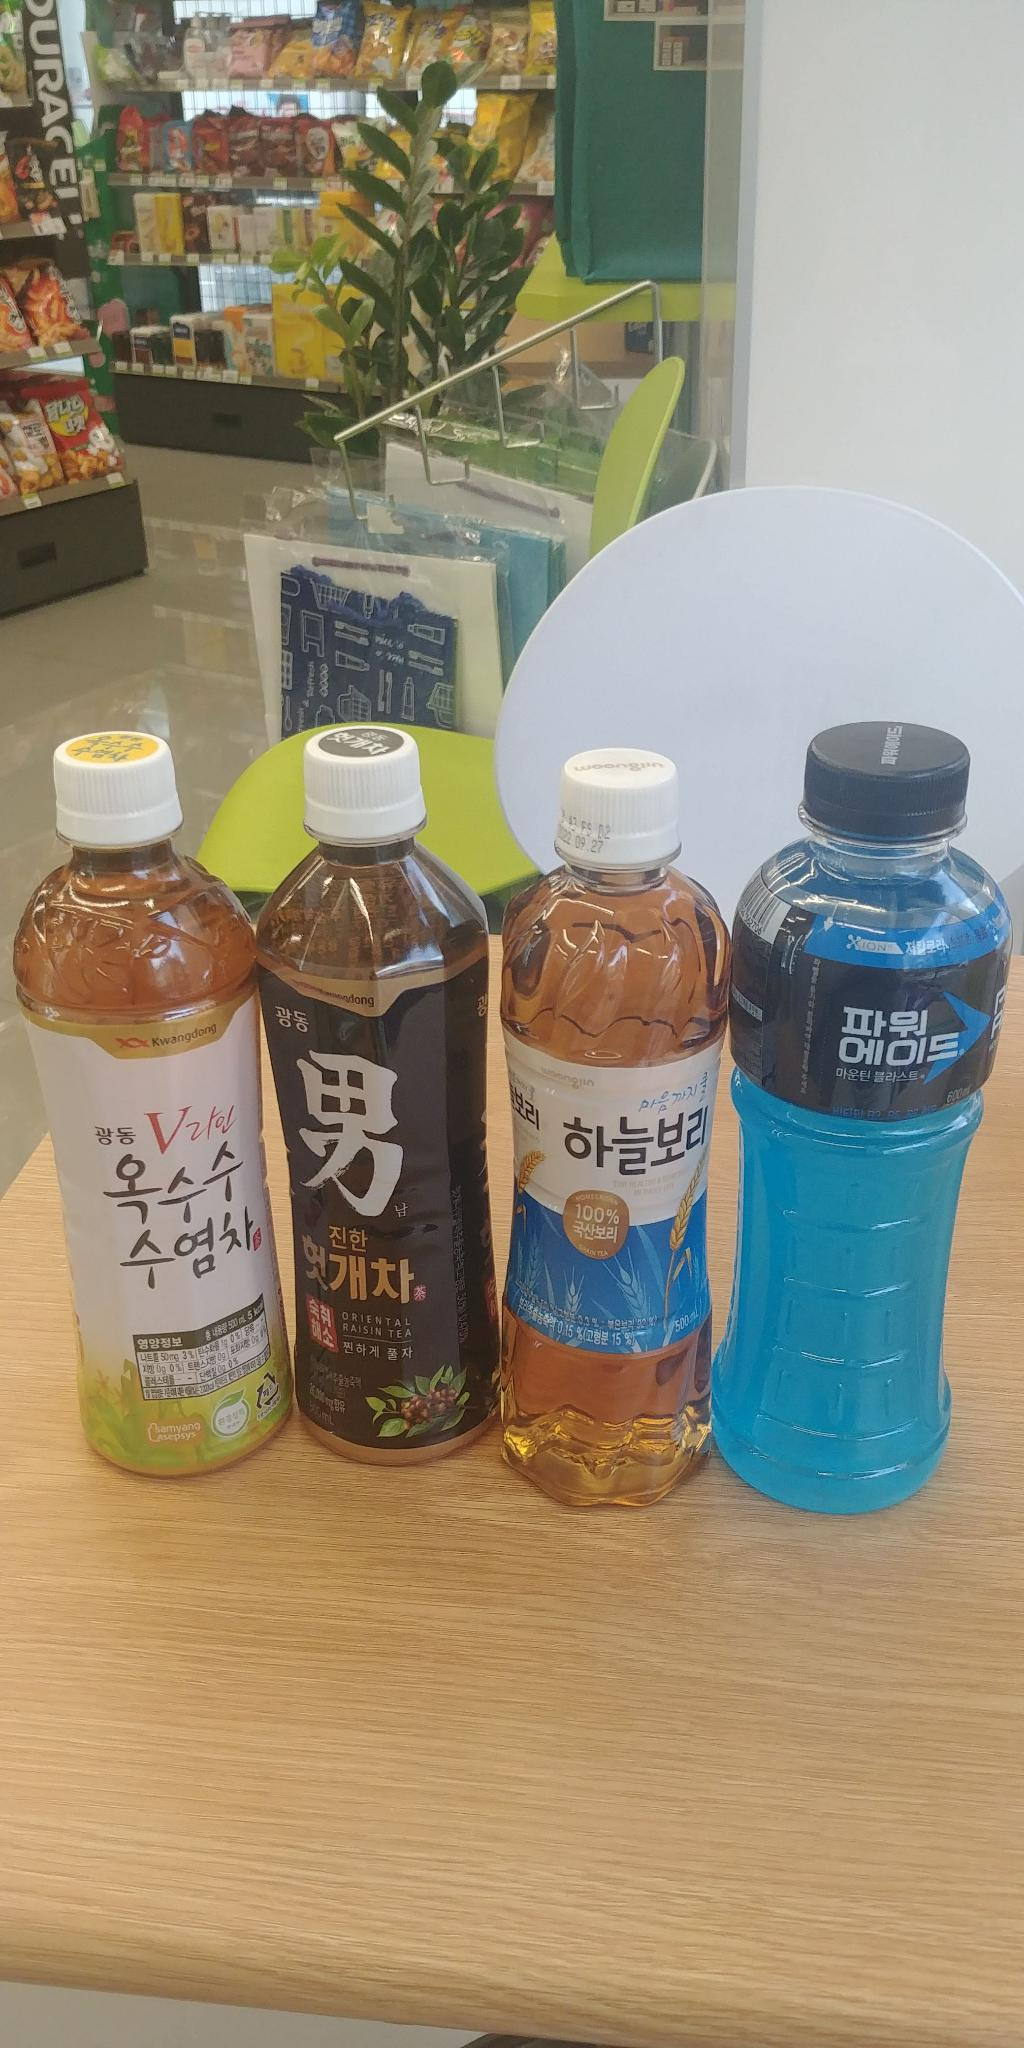haneulbori: (498, 748, 744, 1518)
heotgaecha: (261, 711, 516, 1473)
oksususuyeomcha: (14, 713, 307, 1476)
powerade_mountainblast: (709, 696, 1008, 1509)
